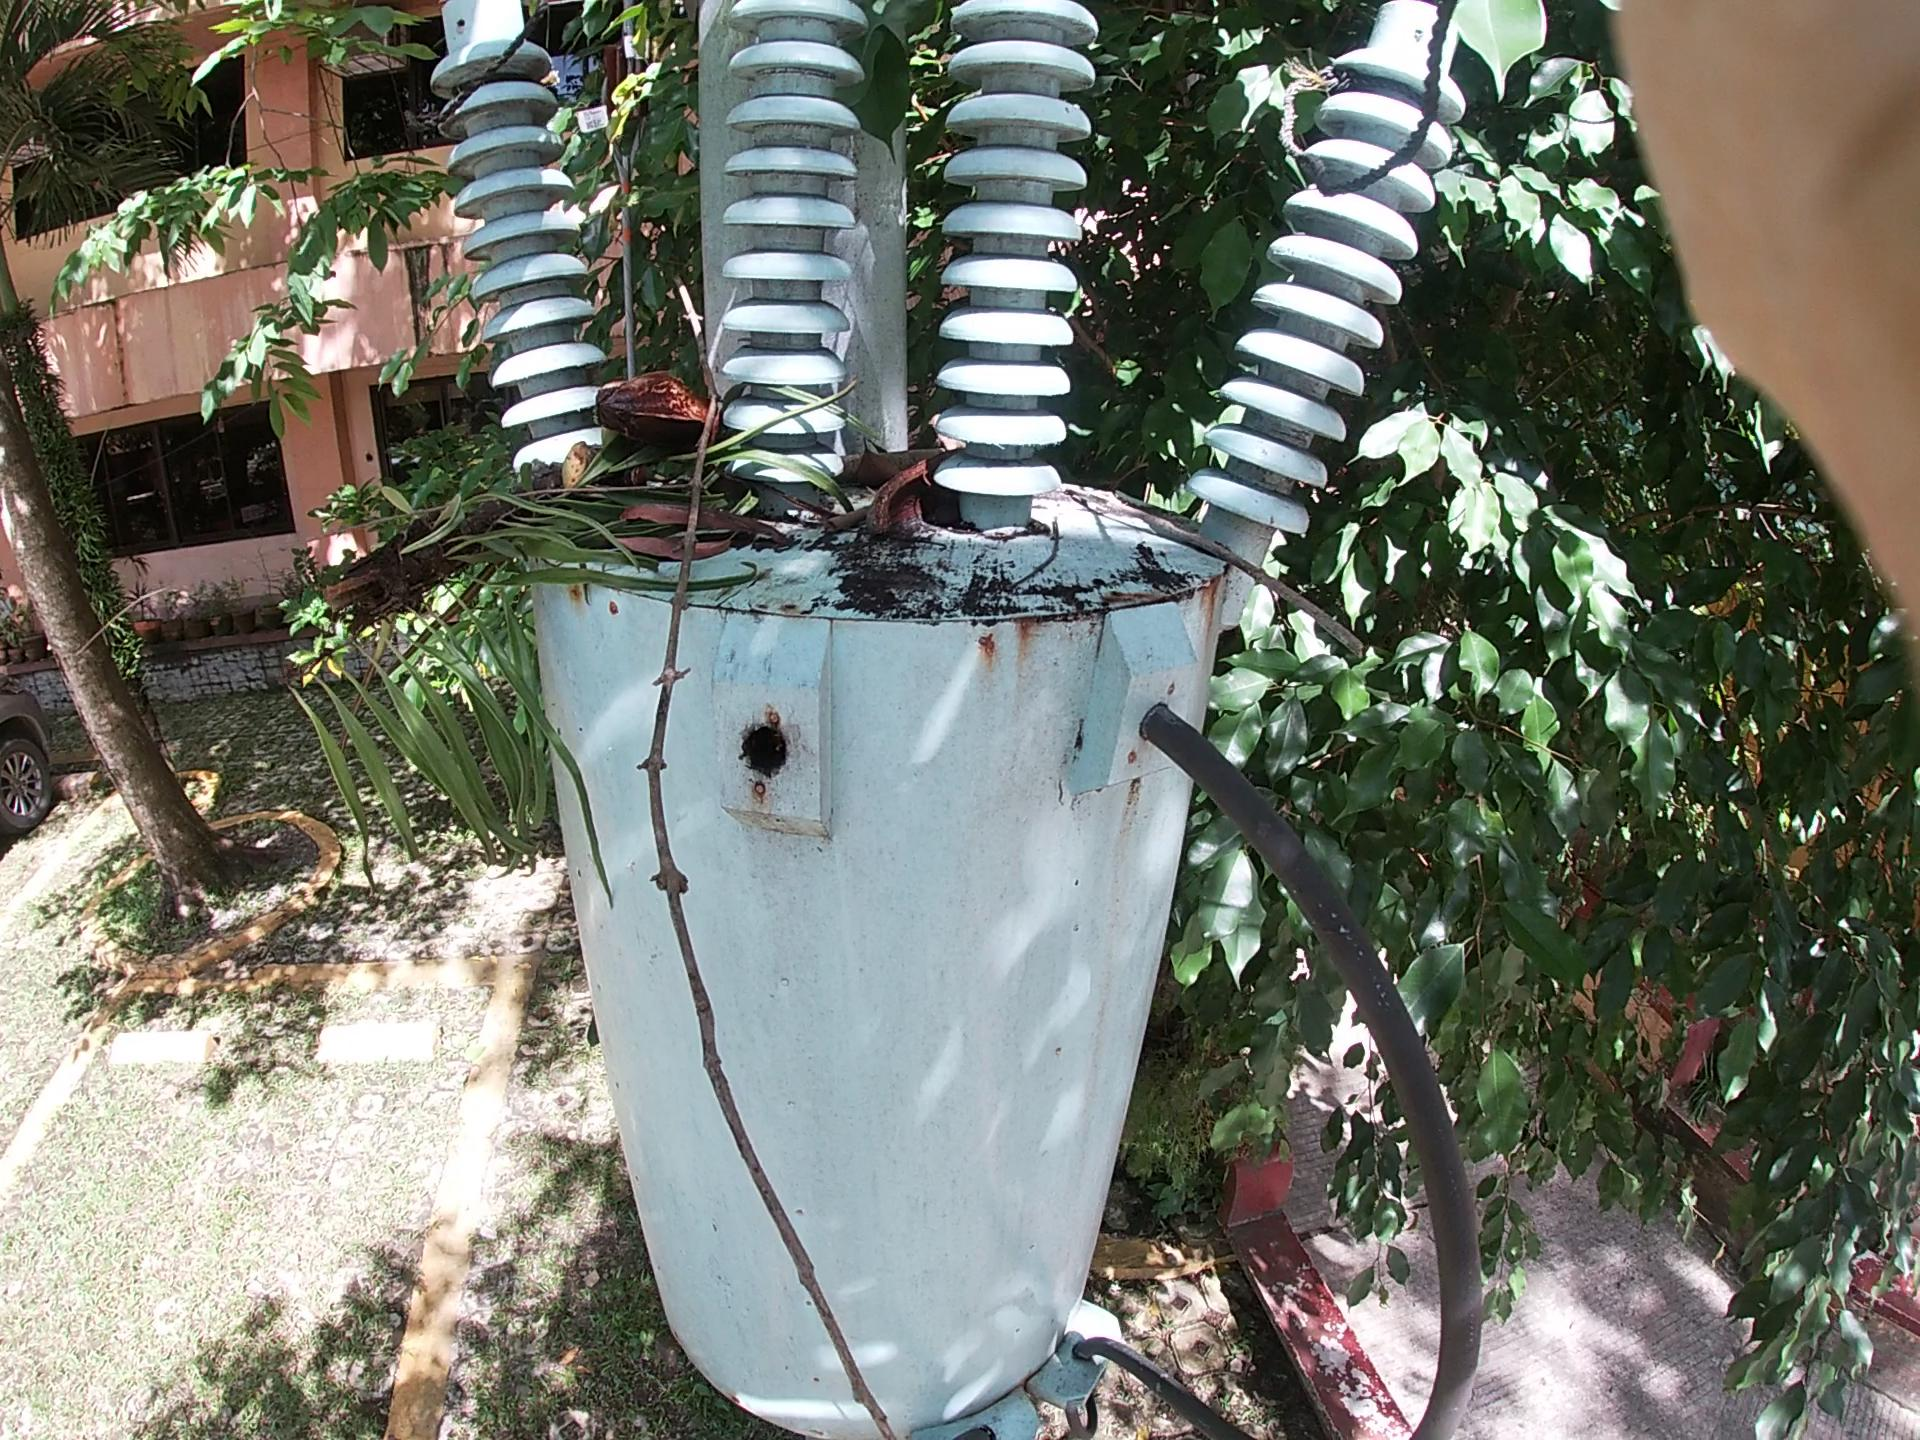branch with leaves: (337, 286, 816, 844)
leaf: (594, 483, 773, 582)
mahogany fruit: (594, 349, 797, 493), (862, 449, 1010, 588)
tree branch: (671, 271, 909, 1440), (1048, 396, 1401, 805), (830, 402, 909, 582)
